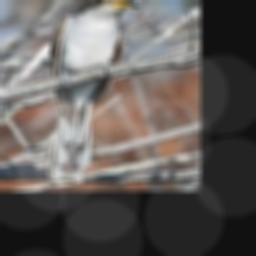Cuckoo: (48, 0, 137, 180)
